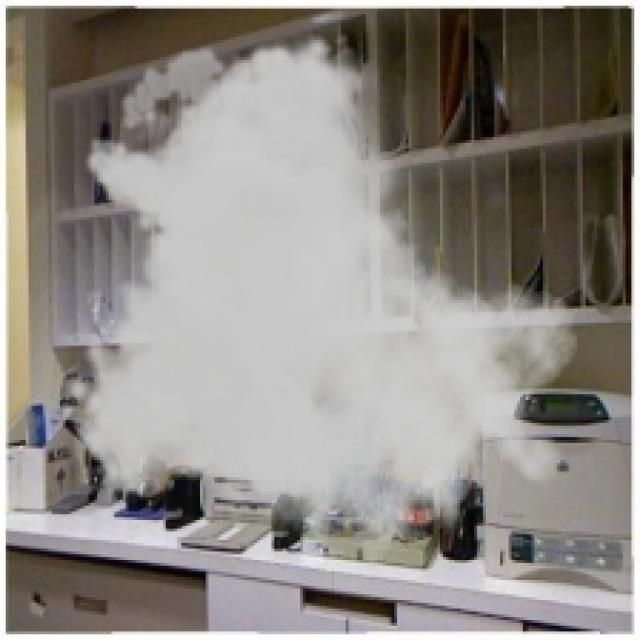Smoke: (63, 32, 580, 594)
